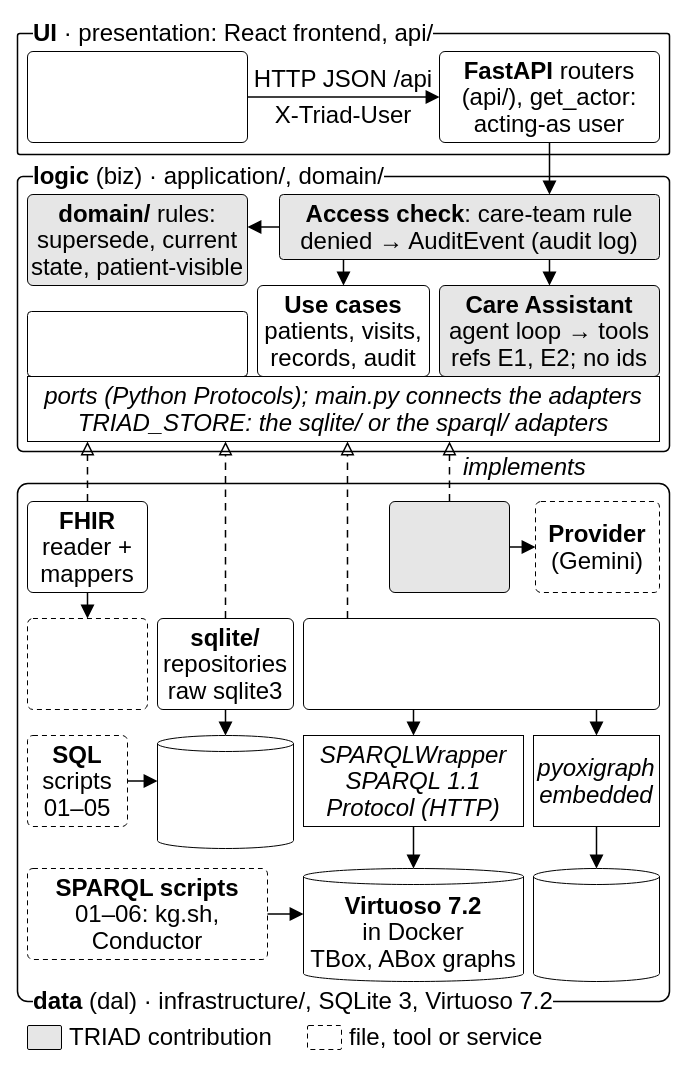
The diagram is 688 pixels wide and 1070 high, and some of its shapes have lost their labels. The shapes that lost their labels are listed below. From the top down, each one's centre as x and y in pixels, then its label:
At (x=137, y=96): "Browser React 19, TS, Vite TanStack Query".
At (x=137, y=343): "Onboarding use case (CLI)".
At (x=449, y=546): "LLM fake, or LiteLLM".
At (x=87, y=664): "FHIR R4 files (Synthea)".
At (x=481, y=664): "sparql/ repositories write buffer, guards, one INSERT DATA".
At (x=225, y=791): "SQLite 3 29 relations 11 triggers".
At (x=596, y=925): "Oxigraph tests, no Docker".
